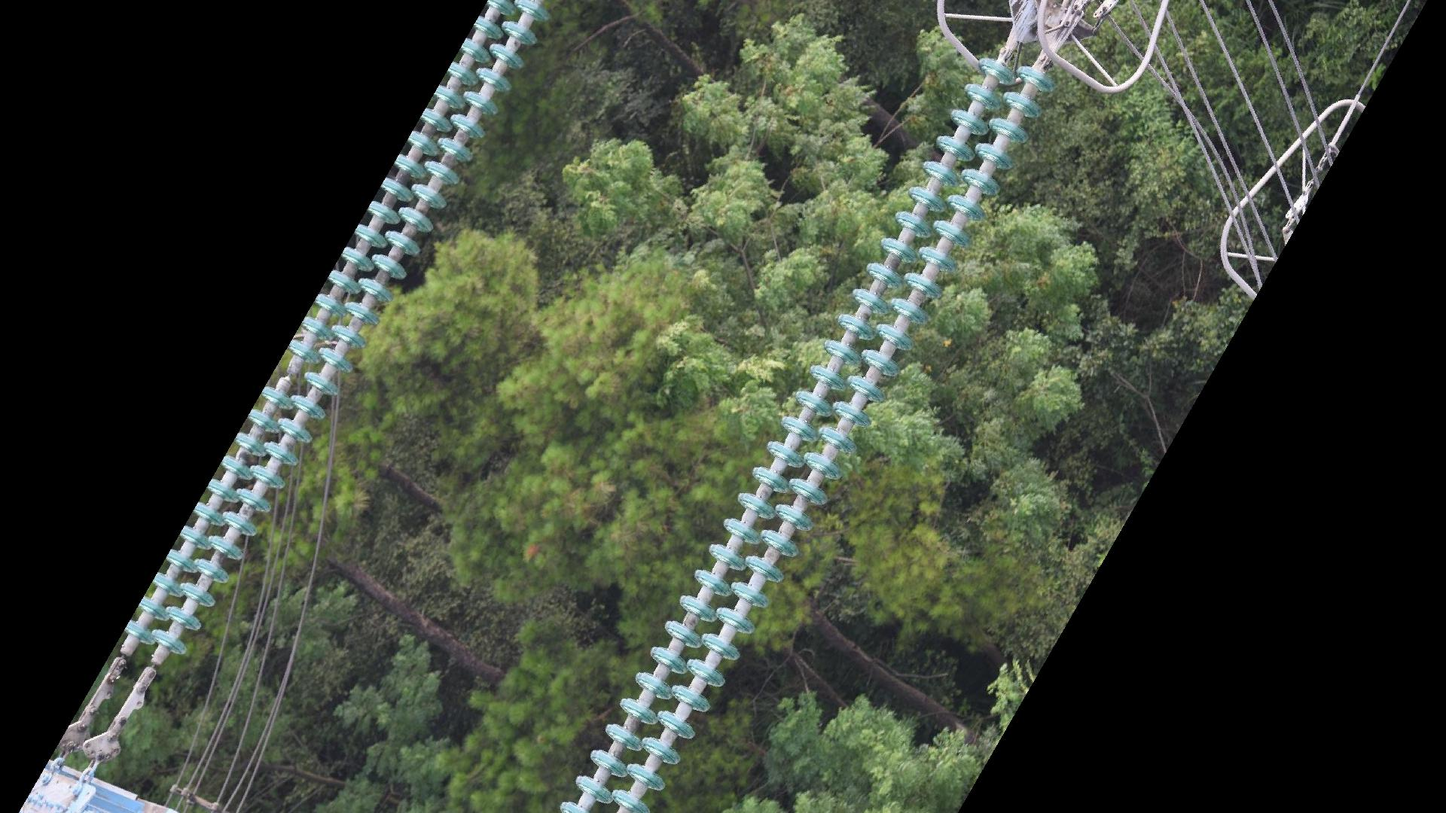insulator: (548, 47, 1059, 813), (121, 1, 554, 665)
insulator_stringdrop: (258, 336, 325, 414)
